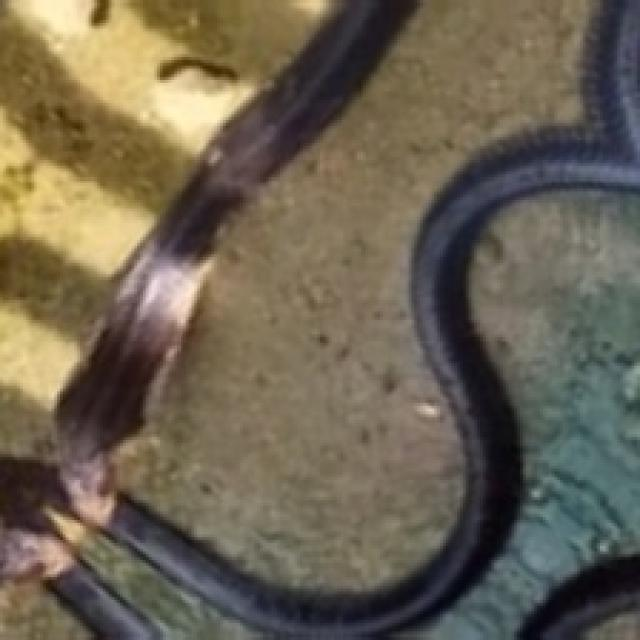king cobra: (45, 0, 640, 640), (2, 509, 114, 621)
